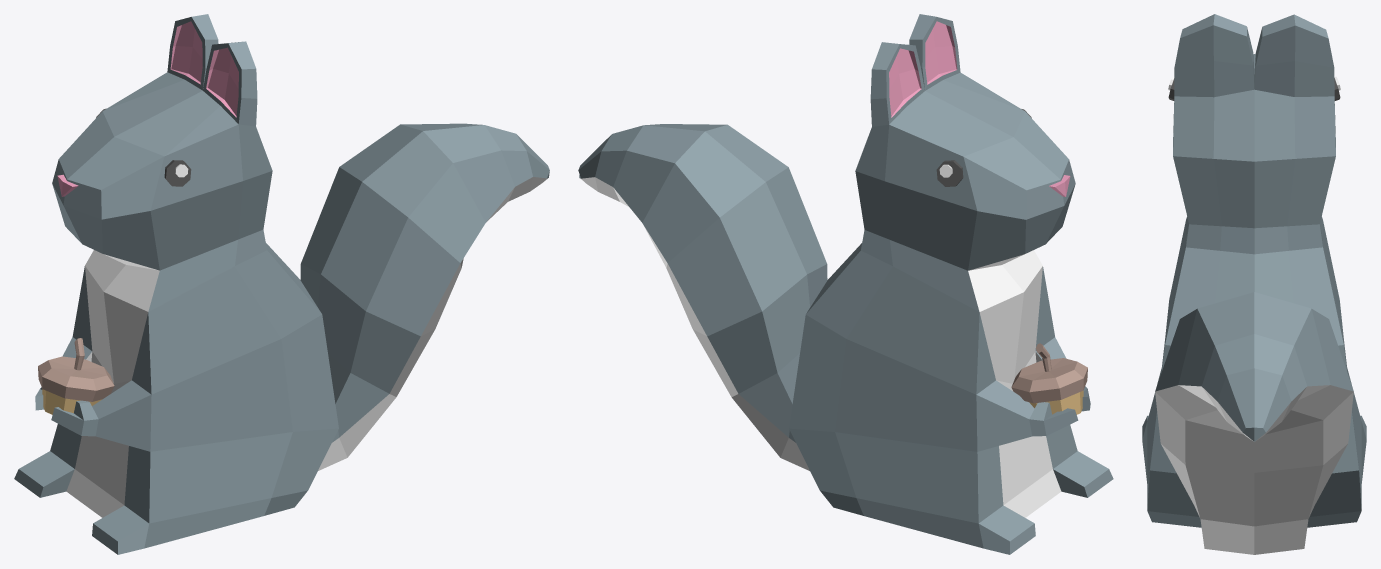
The model's file is 794lutNHni-.glb.
3 views of the same model, side by side, from view 1: azimuth 30°, elevation 25°; view 2: azimuth 150°, elevation 25°; view 3: azimuth 270°, elevation 25° (orthographic). The views are drawn at different scales.
Visible parts, largest first — view 1: Cube.026; view 2: Cube.026; view 3: Cube.026.
Part boxes in pixels (x1,y1,x2,y2): Cube.026: (14, 14, 549, 554); Cube.026: (578, 14, 1113, 554); Cube.026: (1142, 14, 1366, 554).
Bounding box in the file's own units: 1.17 × 1 × 0.4165.
